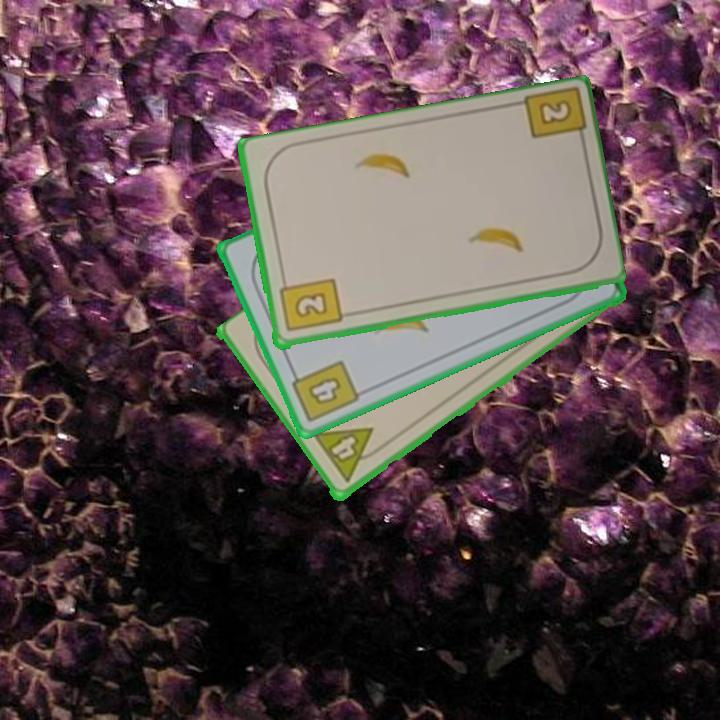2b: (518, 86, 588, 151), (276, 274, 344, 335)
4b: (286, 357, 362, 426)
4p: (310, 424, 387, 487)
